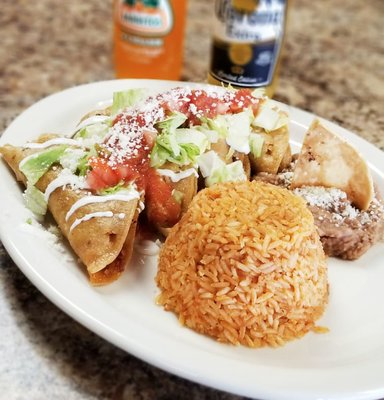soup: (155, 180, 328, 348)
